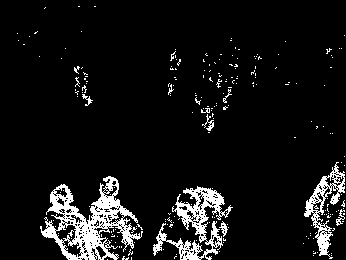person: (89, 176, 144, 260), (41, 183, 92, 260), (305, 162, 346, 257), (75, 65, 94, 106)
